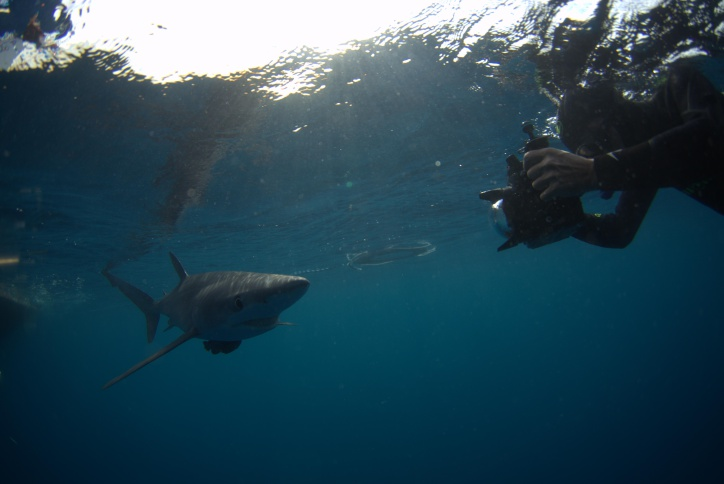Azul: (91, 240, 314, 429)
